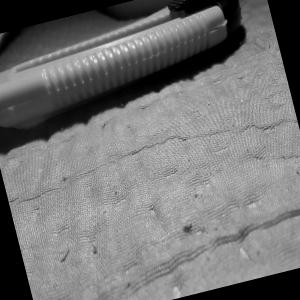estilete: (0, 0, 256, 137)
